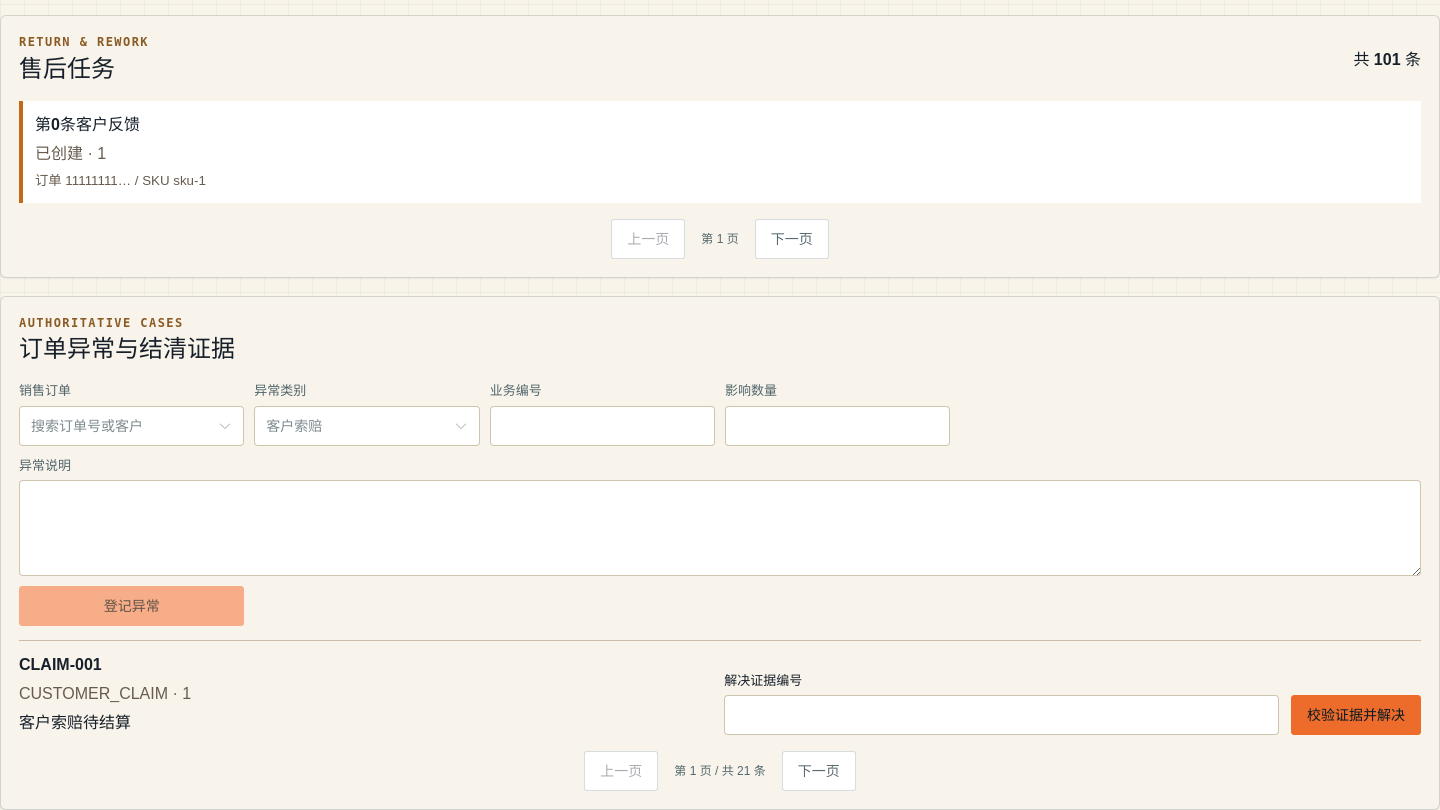
Test: 全租户售后待办工作台 › pages authoritative exception cases so the twenty-first item remains reachable
(page scrolled)
Click the button with test id "exception-next-page" at (819,771), box [782,751,856,791]
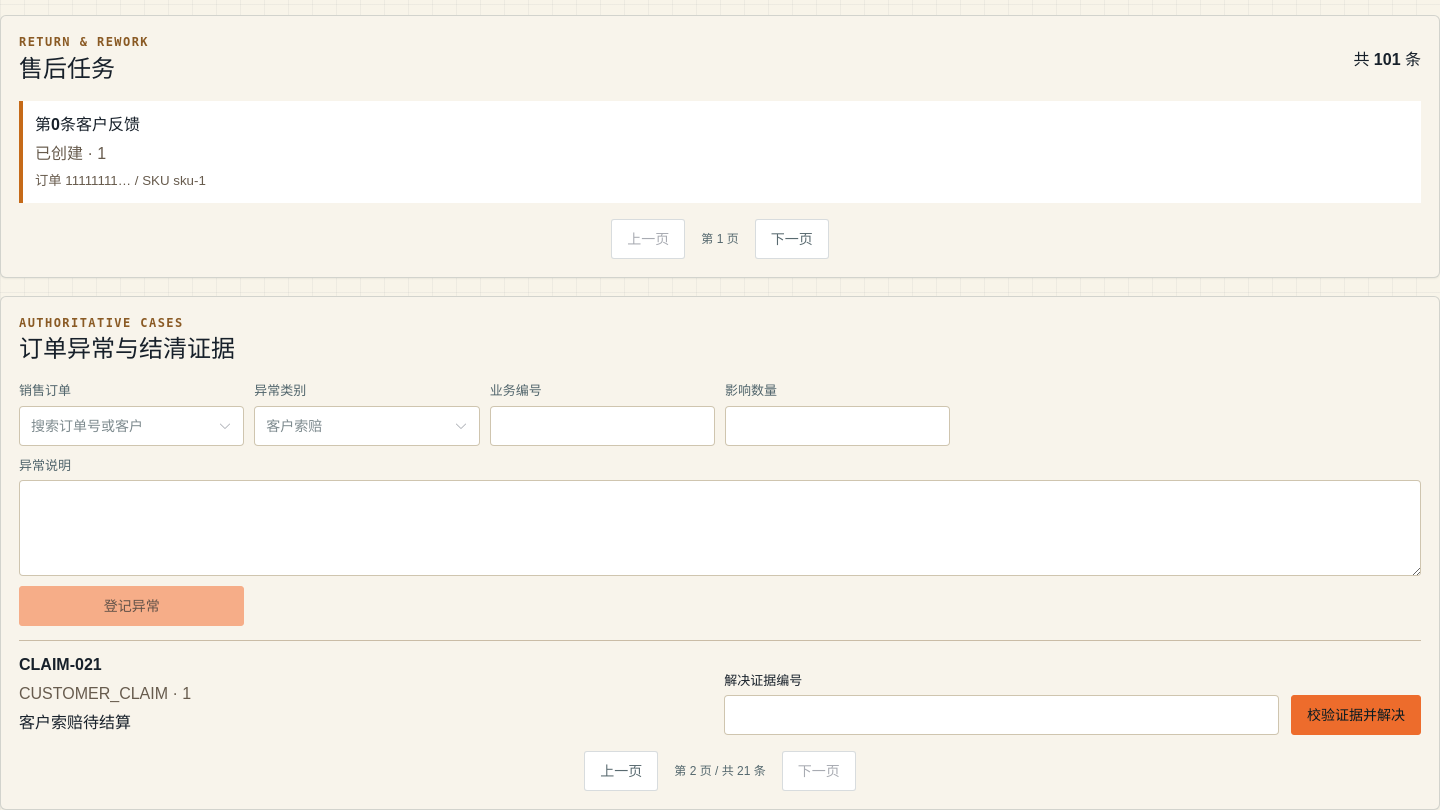
Check: the text "CLAIM-021" is shown, box [19,656,102,673]
